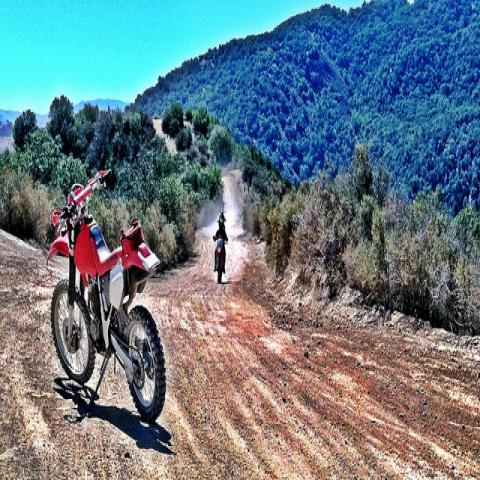motorcycle: (45, 166, 167, 423), (213, 236, 228, 282)
